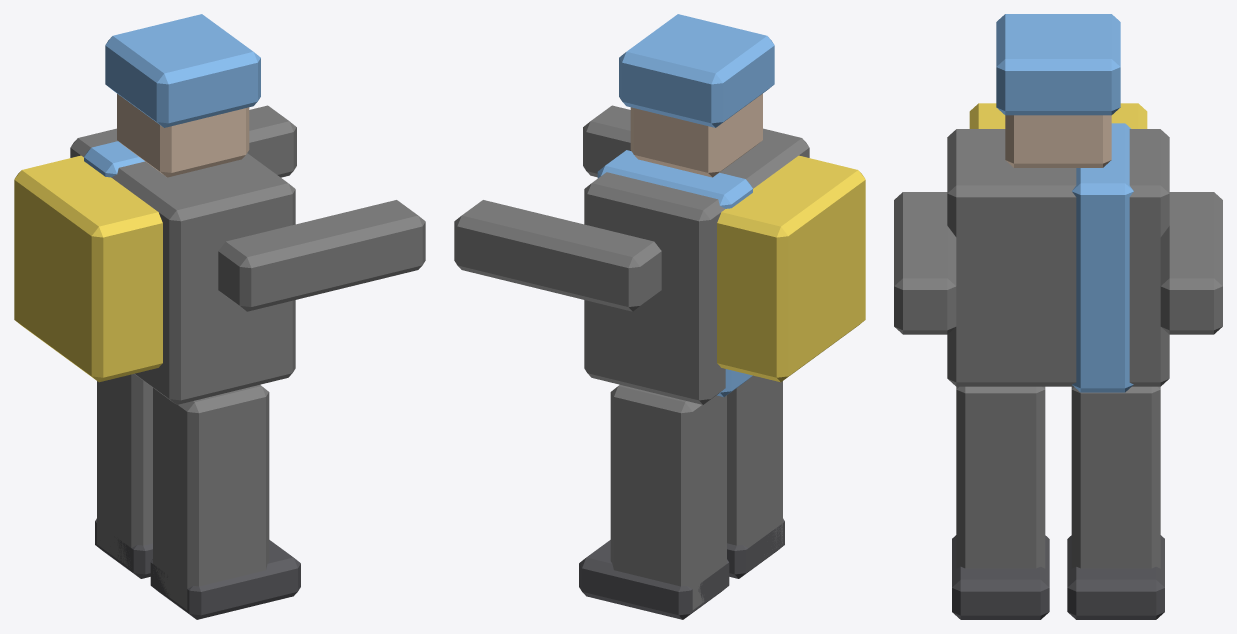
File: saboteur.glb
3 renders of one model, left to right at view 1: azimuth 30°, elevation 25°; view 2: azimuth 150°, elevation 25°; view 3: azimuth 270°, elevation 25°, orthographic. The views are drawn at different scales.
Parts seen in each view (by area): view 1: saboteur; view 2: saboteur; view 3: saboteur.
Part boxes in pixels (left/top/right/bottom): saboteur: left=14, top=14, right=425, bottom=619; saboteur: left=454, top=14, right=865, bottom=619; saboteur: left=894, top=14, right=1222, bottom=619.
Size of the model in its own units: 0.8 by 1.37 by 0.74.
